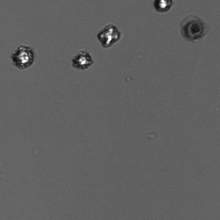Dead Cell: (183, 16, 206, 43)
Living Cell: (10, 44, 35, 71), (95, 23, 122, 48), (71, 50, 94, 70), (152, 1, 174, 13)
